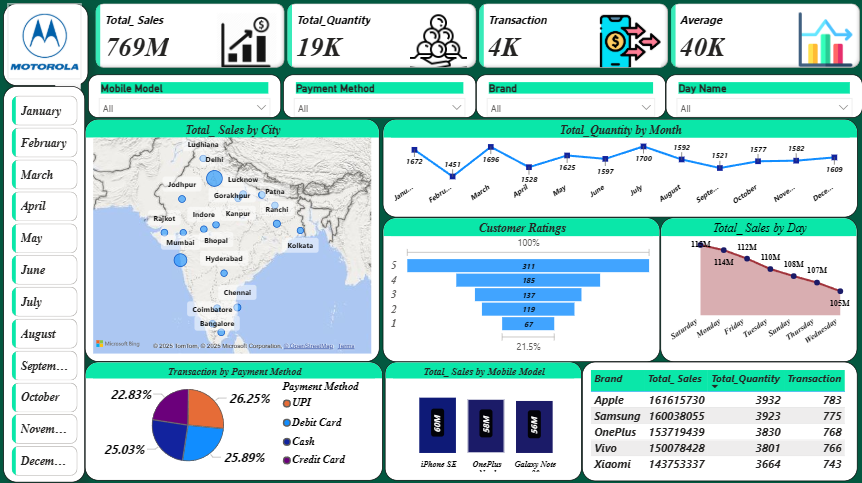

The page's visual inventory and layout, read from the dashboard file:
{"tool":"powerbi","page":{"name":"Page 2","canvas":[1280,720],"ordinal":0},"visuals":[{"type":"shape","box":[6.3,10.9,125.1,122],"z":0},{"type":"image","box":[12.5,10.9,109.5,112.6],"z":1000},{"type":"shape","box":[6.3,133,120.4,585],"z":2000},{"type":"advancedSlicerVisual","fields":{"Values":["Mobile_Sales_Data.Date.Variation.Date Hierarchy.Month"]},"box":[14.1,142.3,107.9,572.5],"z":3000},{"type":"cardVisual","fields":{"Data":["Mobile_Sales_Data.Total_ Sales","Mobile_Sales_Data.Total_Quantity","Mobile_Sales_Data.Transaction","Mobile_Sales_Data.Average"]},"box":[137.7,10.9,1141.9,104.8],"z":4000},{"type":"map","fields":{"Category":["Mobile_Sales_Data.City"],"Size":["Mobile_Sales_Data.Total_ Sales"]},"box":[126.7,181.5,434.9,358.2],"z":5000},{"type":"lineChart","fields":{"Y":["Mobile_Sales_Data.Total_Quantity"],"Category":["Mobile_Sales_Data.Date.Variation.Date Hierarchy.Month","Mobile_Sales_Data.Date.Variation.Date Hierarchy.Day"]},"box":[566.3,181.5,700.8,145.5],"z":6000},{"type":"clusteredColumnChart","fields":{"Category":["Mobile_Sales_Data.Mobile Model"],"Y":["Mobile_Sales_Data.Total_ Sales"]},"box":[569.4,539.7,291,175.2],"z":7000},{"type":"pieChart","fields":{"Category":["Mobile_Sales_Data.Payment Method"],"Y":["Mobile_Sales_Data.Transaction"]},"box":[126.7,539.7,439.6,175.2],"z":8000},{"type":"funnel","title":"Customer Ratings","fields":{"Category":["Mobile_Sales_Data.Customer Ratings"],"Y":["CountNonNull(Mobile_Sales_Data.Customer Ratings)"]},"box":[566.3,326.9,409.8,212.7],"z":9000},{"type":"areaChart","title":"Total_ Sales by Day","fields":{"Category":["Mobile_Sales_Data.Day Name"],"Y":["Mobile_Sales_Data.Total_ Sales"]},"box":[976.1,326.9,291,212.7],"z":10000},{"type":"tableEx","fields":{"Values":["Mobile_Sales_Data.Brand","Mobile_Sales_Data.Total_ Sales","Mobile_Sales_Data.Total_Quantity","Mobile_Sales_Data.Transaction"]},"box":[860.3,539.7,406.7,176.8],"z":11000},{"type":"slicer","fields":{"Values":["Mobile_Sales_Data.Mobile Model"]},"box":[131.4,115.8,284.7,64.1],"z":11001},{"type":"slicer","fields":{"Values":["Mobile_Sales_Data.Payment Method"]},"box":[419.2,115.8,284.7,64.1],"z":11002},{"type":"slicer","fields":{"Values":["Mobile_Sales_Data.Brand"]},"box":[703.9,115.8,280,64.1],"z":11003},{"type":"slicer","fields":{"Values":["Mobile_Sales_Data.Day Name"]},"box":[983.9,115.8,291,64.1],"z":11004}]}

Visuals, with their boxes in screenshot pixels (x1, y1, x2, y2), scaled from the page's 1280x720 canvas onto the 862x483 screenshot:
shape: 4/7/88/89
image: 8/7/82/83
shape: 4/89/85/482
advancedSlicerVisual - Mobile_Sales_Data.Date.Variation.Date Hierarchy.Month: 9/95/82/480
cardVisual - Mobile_Sales_Data.Total_ Sales x Mobile_Sales_Data.Total_Quantity: 93/7/861/78
map - Mobile_Sales_Data.City x Mobile_Sales_Data.Total_ Sales: 85/122/378/362
lineChart - Mobile_Sales_Data.Total_Quantity x Mobile_Sales_Data.Date.Variation.Date Hierarchy.Month: 381/122/853/219
clusteredColumnChart - Mobile_Sales_Data.Mobile Model x Mobile_Sales_Data.Total_ Sales: 383/362/579/480
pieChart - Mobile_Sales_Data.Payment Method x Mobile_Sales_Data.Transaction: 85/362/381/480
"Customer Ratings" funnel: 381/219/657/362
"Total_ Sales by Day" areaChart: 657/219/853/362
tableEx - Mobile_Sales_Data.Brand x Mobile_Sales_Data.Total_ Sales: 579/362/853/481
slicer - Mobile_Sales_Data.Mobile Model: 88/78/280/121
slicer - Mobile_Sales_Data.Payment Method: 282/78/474/121
slicer - Mobile_Sales_Data.Brand: 474/78/663/121
slicer - Mobile_Sales_Data.Day Name: 663/78/859/121
